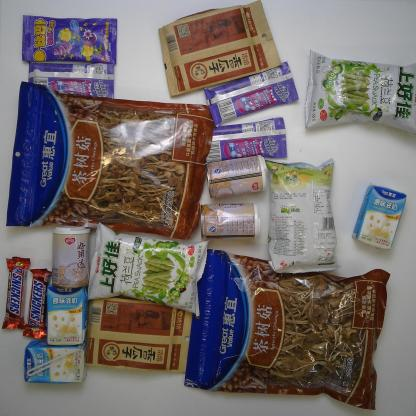Candy: (203, 61, 299, 128), (19, 15, 118, 64), (205, 116, 288, 164), (27, 61, 115, 99)
Canned Food: (205, 154, 269, 199), (50, 225, 91, 289), (199, 202, 261, 241)
Chocolate: (1, 256, 32, 330), (22, 268, 53, 340)
Dried Food: (183, 248, 392, 411), (5, 80, 216, 240), (158, 0, 282, 98), (83, 296, 194, 373)
Milk: (351, 184, 407, 250), (23, 338, 88, 384), (45, 283, 89, 347)
Puffed Food: (86, 221, 210, 317), (303, 48, 416, 134), (262, 157, 342, 274)
